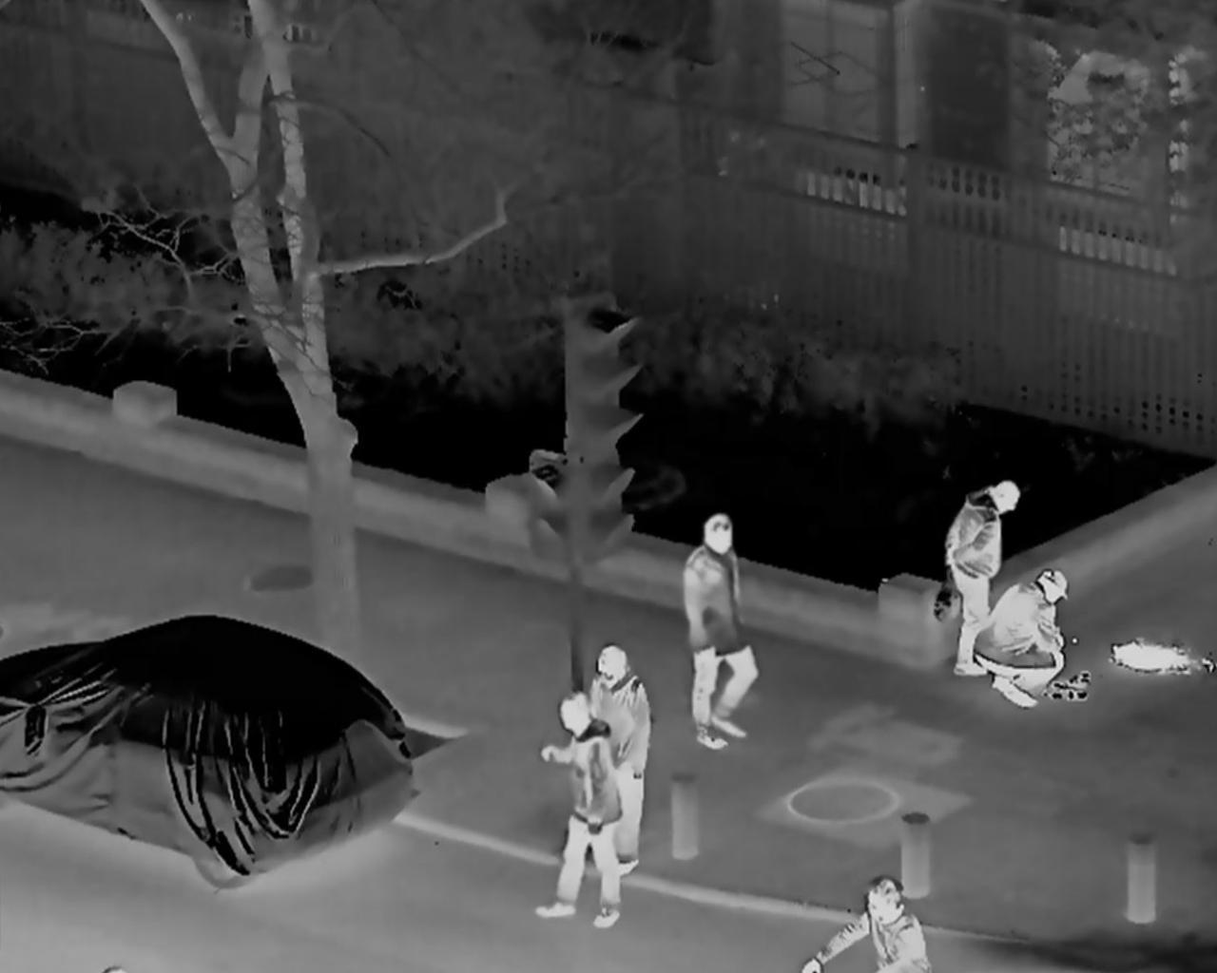person: (539, 692, 625, 931), (578, 647, 657, 880), (681, 510, 758, 748), (942, 470, 1017, 688), (972, 564, 1072, 706), (795, 874, 933, 973)
